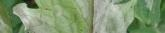Tomato leaf late blight: (15, 0, 148, 33)
